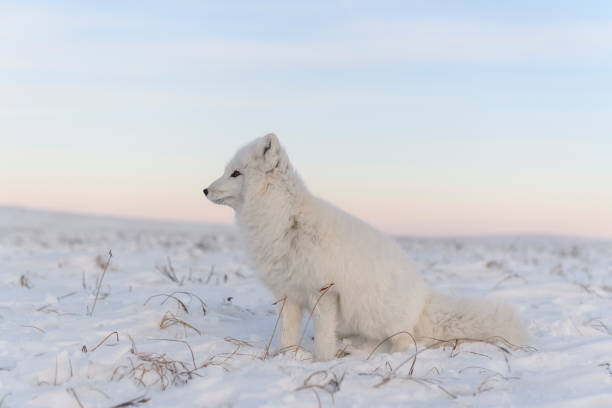arcticfox: (196, 142, 248, 219)
